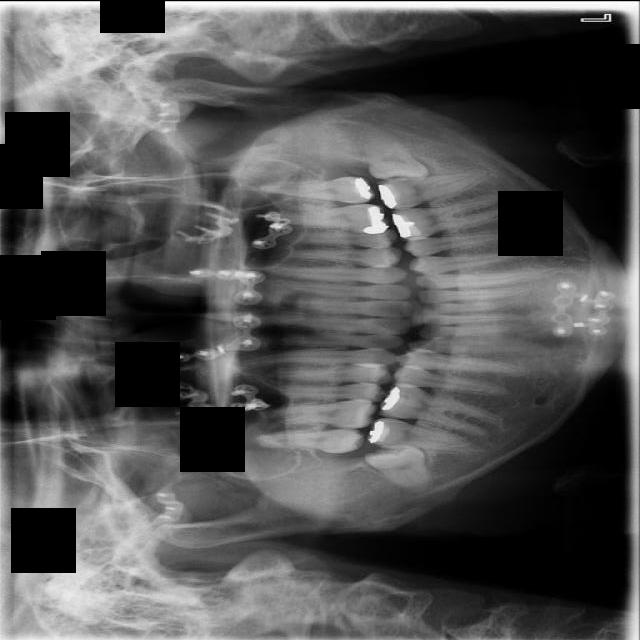52: (376, 374, 435, 429), (389, 196, 443, 247), (374, 168, 429, 215), (365, 414, 416, 450), (340, 203, 390, 233), (328, 176, 375, 203)
73: (588, 32, 602, 41)
BioHorizons Implant: (262, 176, 375, 202)
Biomet 3i Implant: (362, 131, 430, 181)
Blue Sky Bio Implant: (376, 166, 491, 212)
Caries: (259, 426, 366, 457)
Implant: (365, 414, 484, 461)
Keystone Dental Implant: (362, 424, 446, 502)
